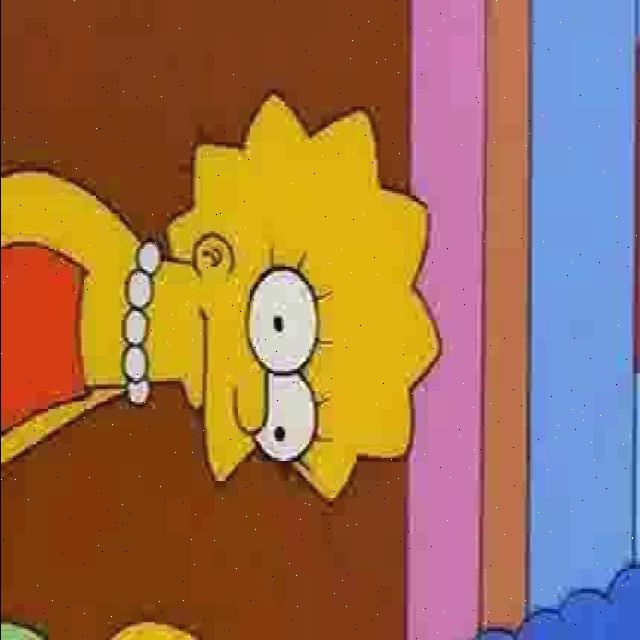Lisa Simpson: (119, 87, 442, 504)
